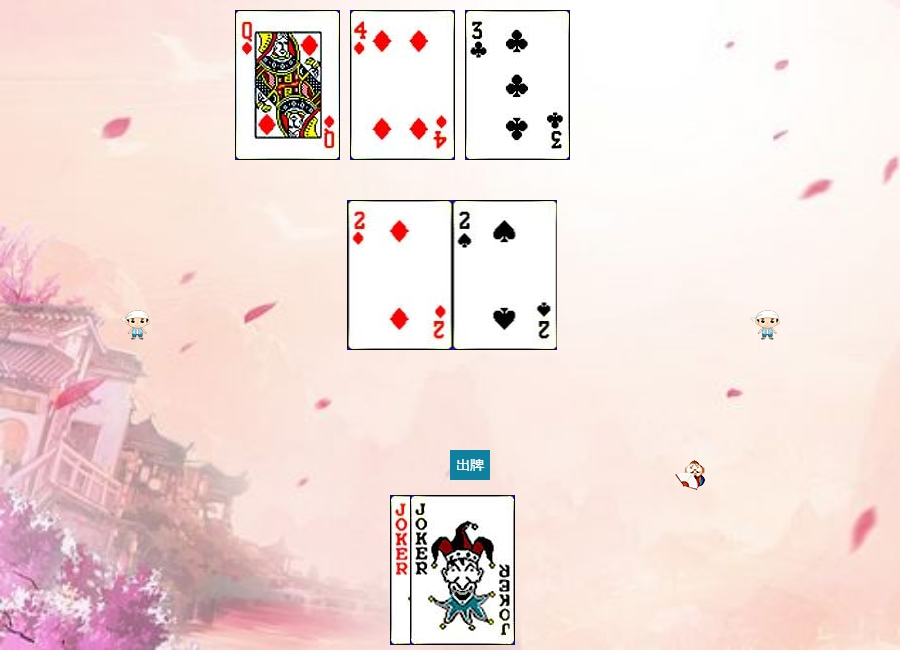12~1: (235, 10, 340, 160)
15~1: (348, 200, 453, 350)
15~4: (453, 200, 558, 350)
17~3: (410, 495, 515, 645)
18~4: (390, 495, 495, 645)
3~2: (465, 10, 570, 160)
4~1: (350, 10, 455, 160)
